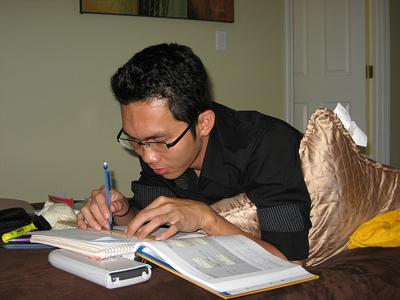person: (75, 43, 312, 270)
